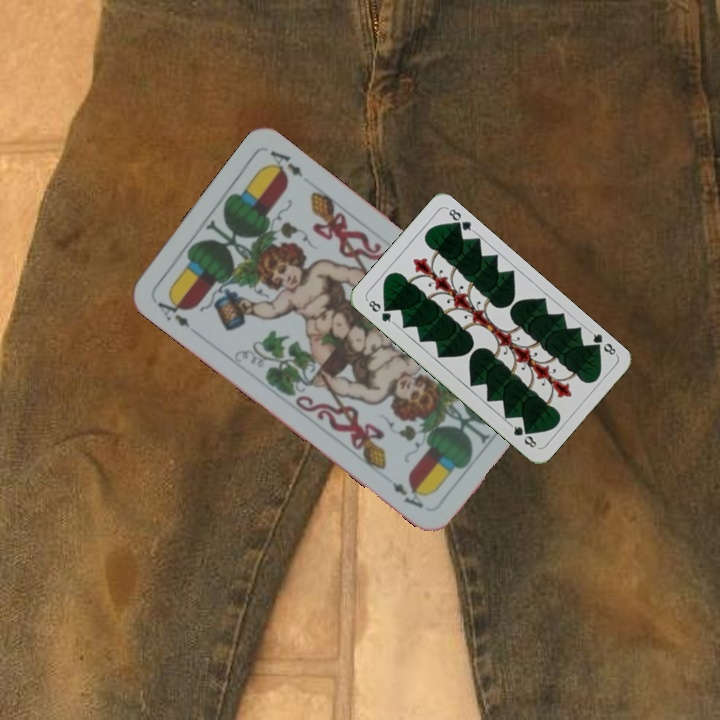EA: (153, 291, 193, 331)
G8: (586, 327, 620, 358), (363, 296, 397, 326)
